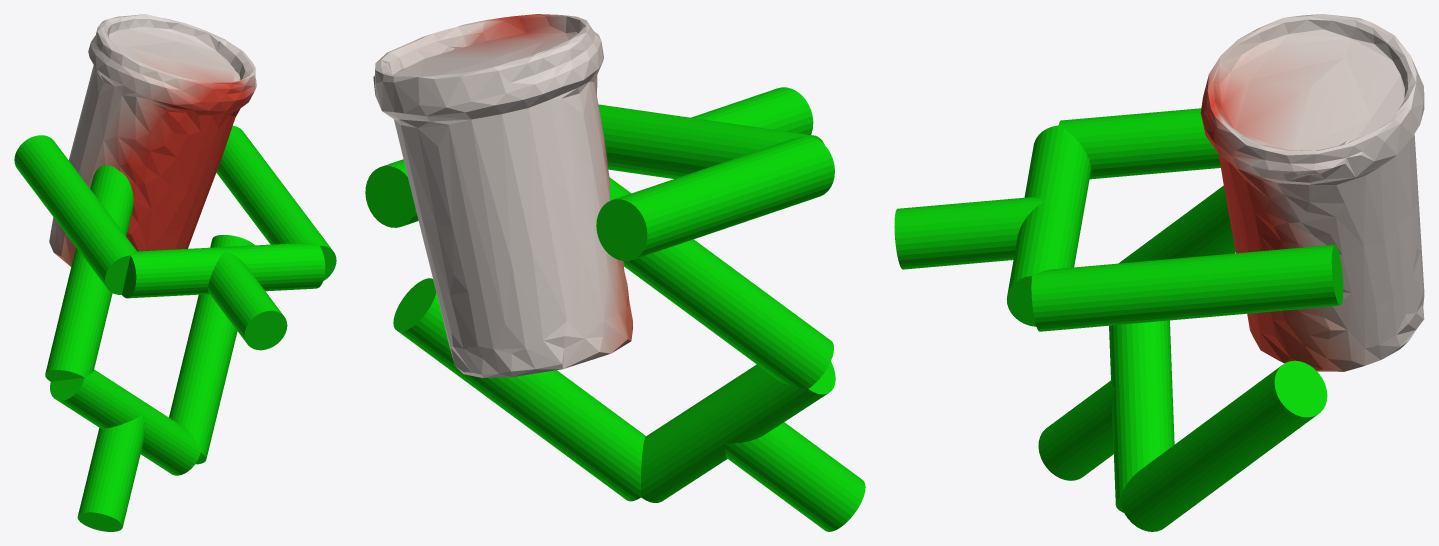
File: round_000_trial_000.obj
3 renders of one model, left to right at view 1: azimuth 30°, elevation 25°; view 2: azimuth 150°, elevation 25°; view 3: azimuth 270°, elevation 25°, orthographic. The views are drawn at different scales.
Parts seen in each view (by area): view 1: geometry_0, geometry_1, geometry_2; view 2: geometry_0, geometry_2, geometry_1; view 3: geometry_0, geometry_1, geometry_2.
Part boxes in pixels (bbox=[...]): geometry_0: bbox=[49, 14, 256, 266]; geometry_1: bbox=[14, 125, 336, 350]; geometry_2: bbox=[45, 165, 254, 531]; geometry_0: bbox=[373, 14, 632, 377]; geometry_2: bbox=[393, 177, 865, 531]; geometry_1: bbox=[365, 87, 834, 260]; geometry_0: bbox=[1200, 14, 1424, 371]; geometry_1: bbox=[894, 108, 1343, 331]; geometry_2: bbox=[1038, 185, 1327, 531].
Bounding box in the file's own units: 0.0671 × 0.095 × 0.0867.
